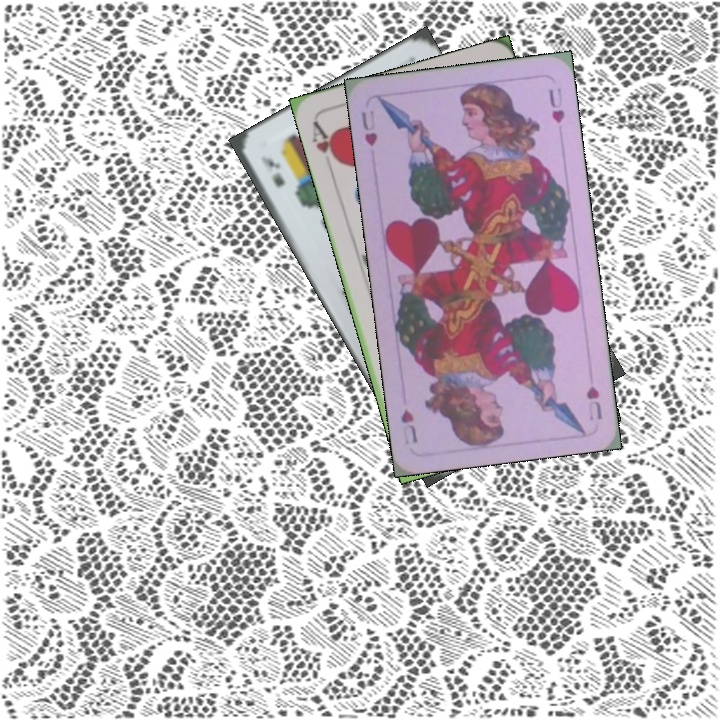EK: (257, 151, 288, 190)
HA: (308, 117, 343, 175)
HU: (357, 106, 380, 149), (582, 382, 605, 423)
